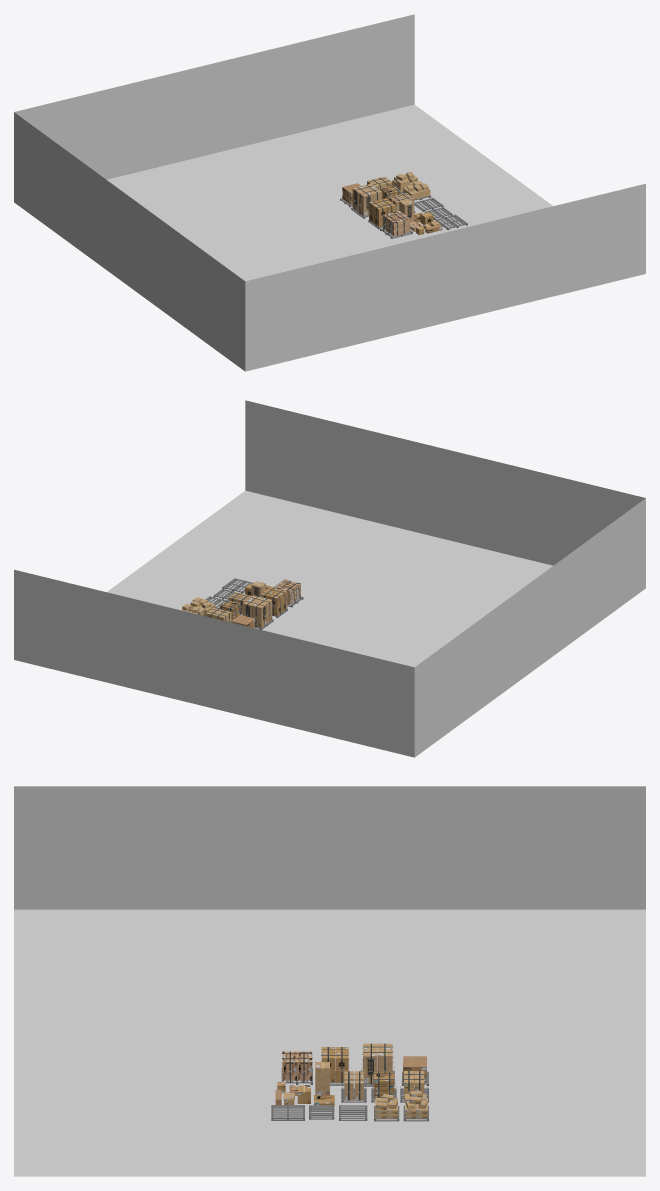
Rendered from CardBox Packages.fbx.
The picture shows the model from 3 angles, top to bottom: view 1: azimuth 30°, elevation 25°; view 2: azimuth 150°, elevation 25°; view 3: azimuth 270°, elevation 25°; orthographic projection. The views are drawn at different scales.
Parts seen in each view (by area): view 1: Plane, Package Set (3), Package Set (6), Package Set (4); view 2: Plane, Package Set (3), Package Set (4); view 3: Plane, Package Set (3), Package Set (6), Package Set (4), Package Set (2), Package Set (8A), Package Set (8B), Package Set (1), Package Set (5).
Part boxes in pixels (x1,y1,x2,y2): Plane: (14,14,645,371); Package Set (3): (351,183,382,218); Package Set (6): (380,210,412,238); Package Set (4): (368,198,395,229); Plane: (14,400,645,757); Package Set (3): (242,595,273,629); Package Set (4): (260,587,287,617); Plane: (14,786,645,1176); Package Set (3): (361,1043,394,1086); Package Set (6): (281,1051,312,1084); Package Set (4): (320,1047,349,1085); Package Set (2): (341,1071,366,1102); Package Set (8A): (403,1090,428,1121); Package Set (8B): (374,1094,399,1121); Package Set (1): (371,1072,396,1102); Package Set (5): (400,1071,428,1102).
Bounding box in the file's own units: 3346 × 722 × 3346.
